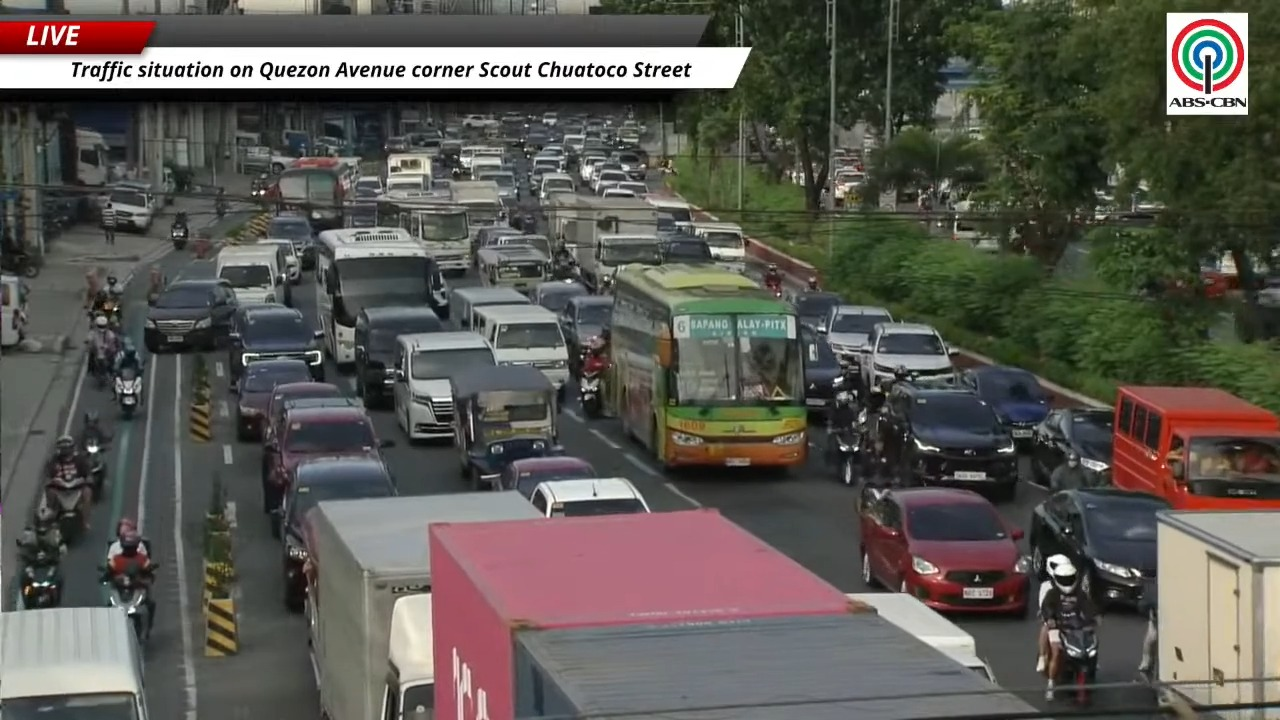bus: (607, 265, 807, 467), (316, 228, 447, 368), (273, 157, 351, 231)
car: (859, 487, 1030, 613), (272, 457, 396, 611), (1028, 488, 1170, 606), (880, 382, 1017, 499), (262, 407, 393, 512), (393, 331, 495, 441), (260, 394, 361, 484), (354, 306, 443, 407), (227, 304, 324, 389), (960, 365, 1050, 451), (144, 278, 236, 353), (1030, 409, 1114, 484), (859, 322, 955, 386), (235, 360, 310, 440), (262, 380, 345, 442), (530, 478, 649, 516), (558, 295, 612, 376), (818, 304, 892, 363), (499, 456, 598, 497), (800, 326, 843, 412), (265, 212, 315, 269), (107, 186, 154, 233), (792, 291, 843, 332), (472, 225, 521, 266), (258, 237, 300, 284), (531, 281, 589, 313), (659, 234, 713, 264), (613, 150, 646, 180), (615, 181, 650, 198)
motorcycle: (1055, 627, 1098, 704), (44, 471, 87, 544), (108, 574, 150, 644), (856, 408, 893, 478), (21, 550, 61, 609), (828, 421, 862, 486), (83, 436, 106, 500), (114, 367, 141, 419), (89, 343, 112, 389), (579, 370, 601, 418), (0, 251, 39, 278), (100, 297, 121, 328), (552, 258, 578, 280), (170, 225, 188, 249), (597, 274, 613, 294), (215, 198, 227, 218), (767, 284, 782, 298)
truck: (429, 509, 1035, 719), (303, 491, 544, 719), (1157, 510, 1279, 719), (848, 593, 994, 681), (377, 191, 472, 276), (547, 193, 658, 255), (574, 215, 660, 291), (450, 180, 504, 238), (384, 152, 432, 188)
